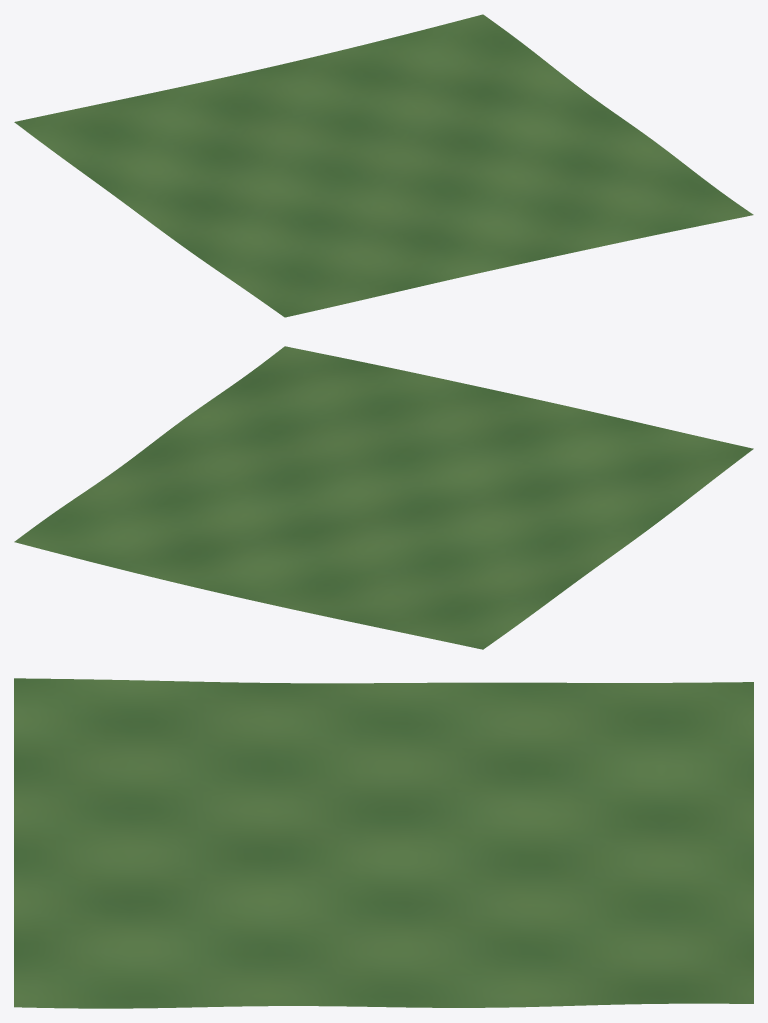
File: chunk_6_10.glb
The picture shows the model from 3 angles, top to bottom: view 1: azimuth 30°, elevation 25°; view 2: azimuth 150°, elevation 25°; view 3: azimuth 270°, elevation 25°; orthographic projection. The views are drawn at different scales.
Bounding box in the file's own units: 512 × 13.41 × 512.
